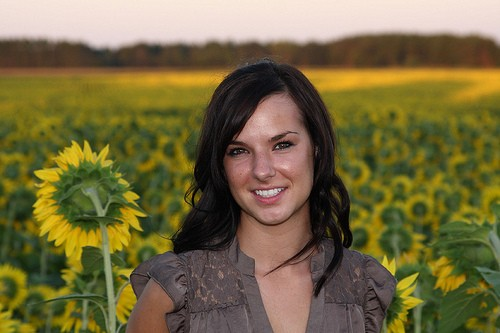flower: (31, 137, 150, 255)
